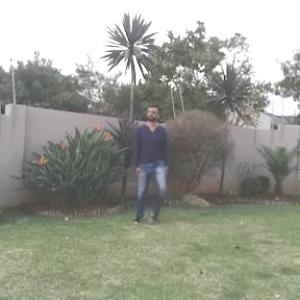follow: (132, 100, 169, 224)
